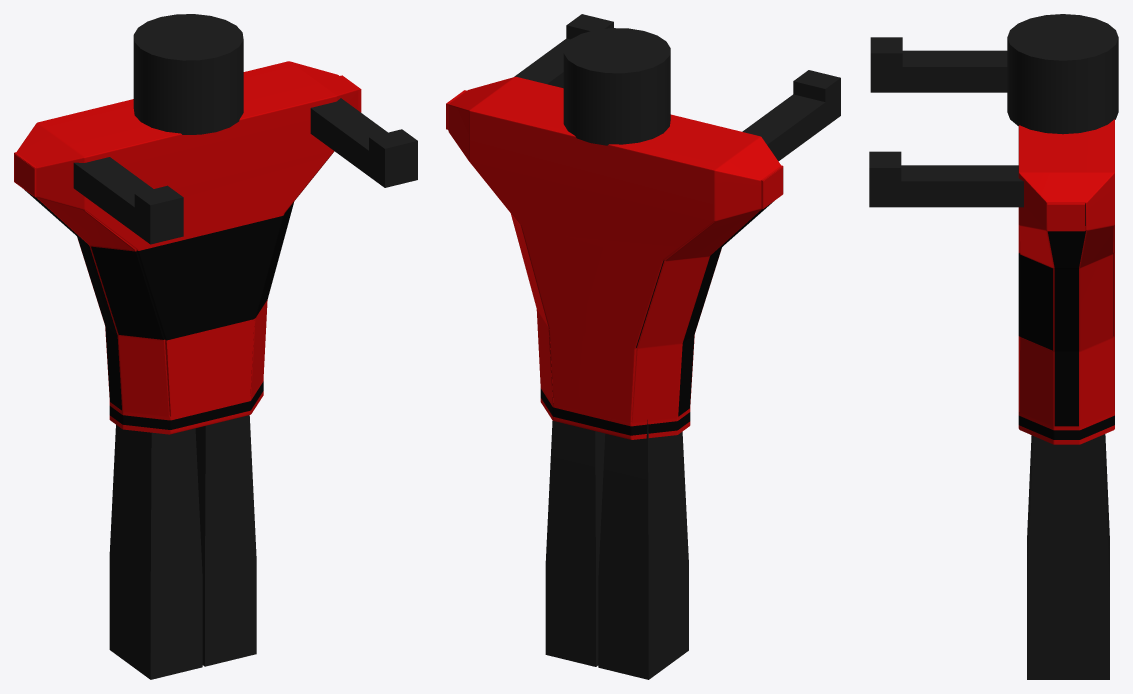
The model's file is Advancer.fbx.
3 renders of one model, left to right at view 1: azimuth 30°, elevation 25°; view 2: azimuth 150°, elevation 25°; view 3: azimuth 270°, elevation 25°, orthographic. The views are drawn at different scales.
Visible parts, largest first — view 1: Advancer; view 2: Advancer; view 3: Advancer.
Part boxes in pixels (left/top/right/bottom): Advancer: left=14, top=14, right=417, bottom=679; Advancer: left=446, top=14, right=840, bottom=679; Advancer: left=869, top=14, right=1118, bottom=679.
Bounding box in the file's own units: 1.36 × 2.44 × 0.8913.
